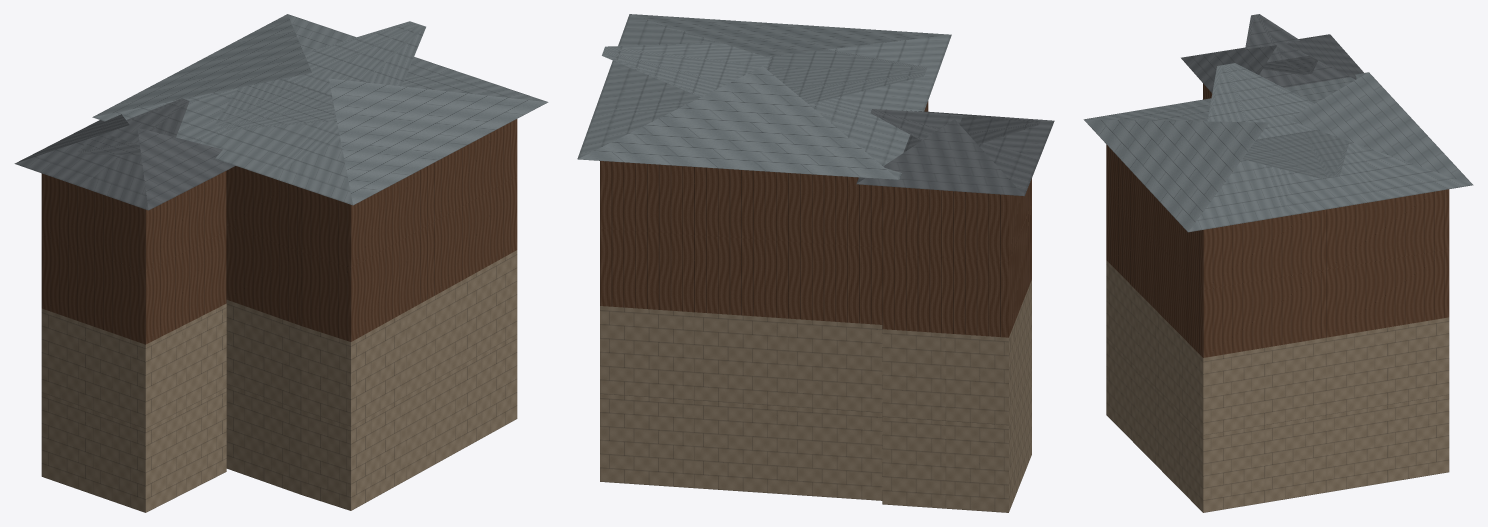
File: bld_c5_37_529.gltf
3 renders of one model, left to right at view 1: azimuth 30°, elevation 25°; view 2: azimuth 150°, elevation 25°; view 3: azimuth 270°, elevation 25°, orthographic. The views are drawn at different scales.
Visible parts, largest first — view 1: bld_c5_37_529; view 2: bld_c5_37_529; view 3: bld_c5_37_529.
Part boxes in pixels (x1,y1,x2,y2): bld_c5_37_529: [14, 14, 548, 512]; bld_c5_37_529: [577, 14, 1054, 512]; bld_c5_37_529: [1083, 14, 1473, 512].
Bounding box in the file's own units: 14.02 × 10.4 × 11.3.
Materials: 4 (4 with a texture image).
